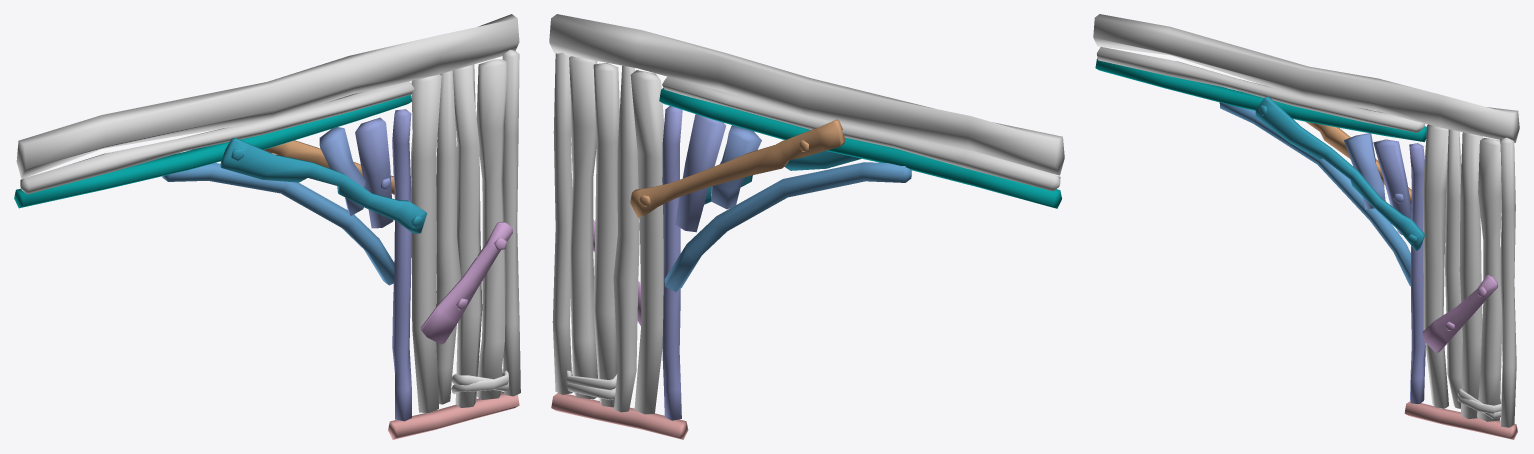
The model's file is PBW_W1_ArchwayLarge.glb.
3 views of the same model, side by side, from view 1: azimuth 30°, elevation 25°; view 2: azimuth 150°, elevation 25°; view 3: azimuth 330°, elevation 25° (orthographic). The views are drawn at different scales.
Visible parts, largest first — view 1: PBW_W1_ArchwayLarge; view 2: PBW_W1_ArchwayLarge; view 3: PBW_W1_ArchwayLarge.
Part boxes in pixels (x1,y1,x2,y2): PBW_W1_ArchwayLarge: (14, 14, 520, 439); PBW_W1_ArchwayLarge: (549, 14, 1064, 439); PBW_W1_ArchwayLarge: (1093, 14, 1519, 439).
Bounding box in the file's own units: 5.14 × 3.89 × 0.4124.
